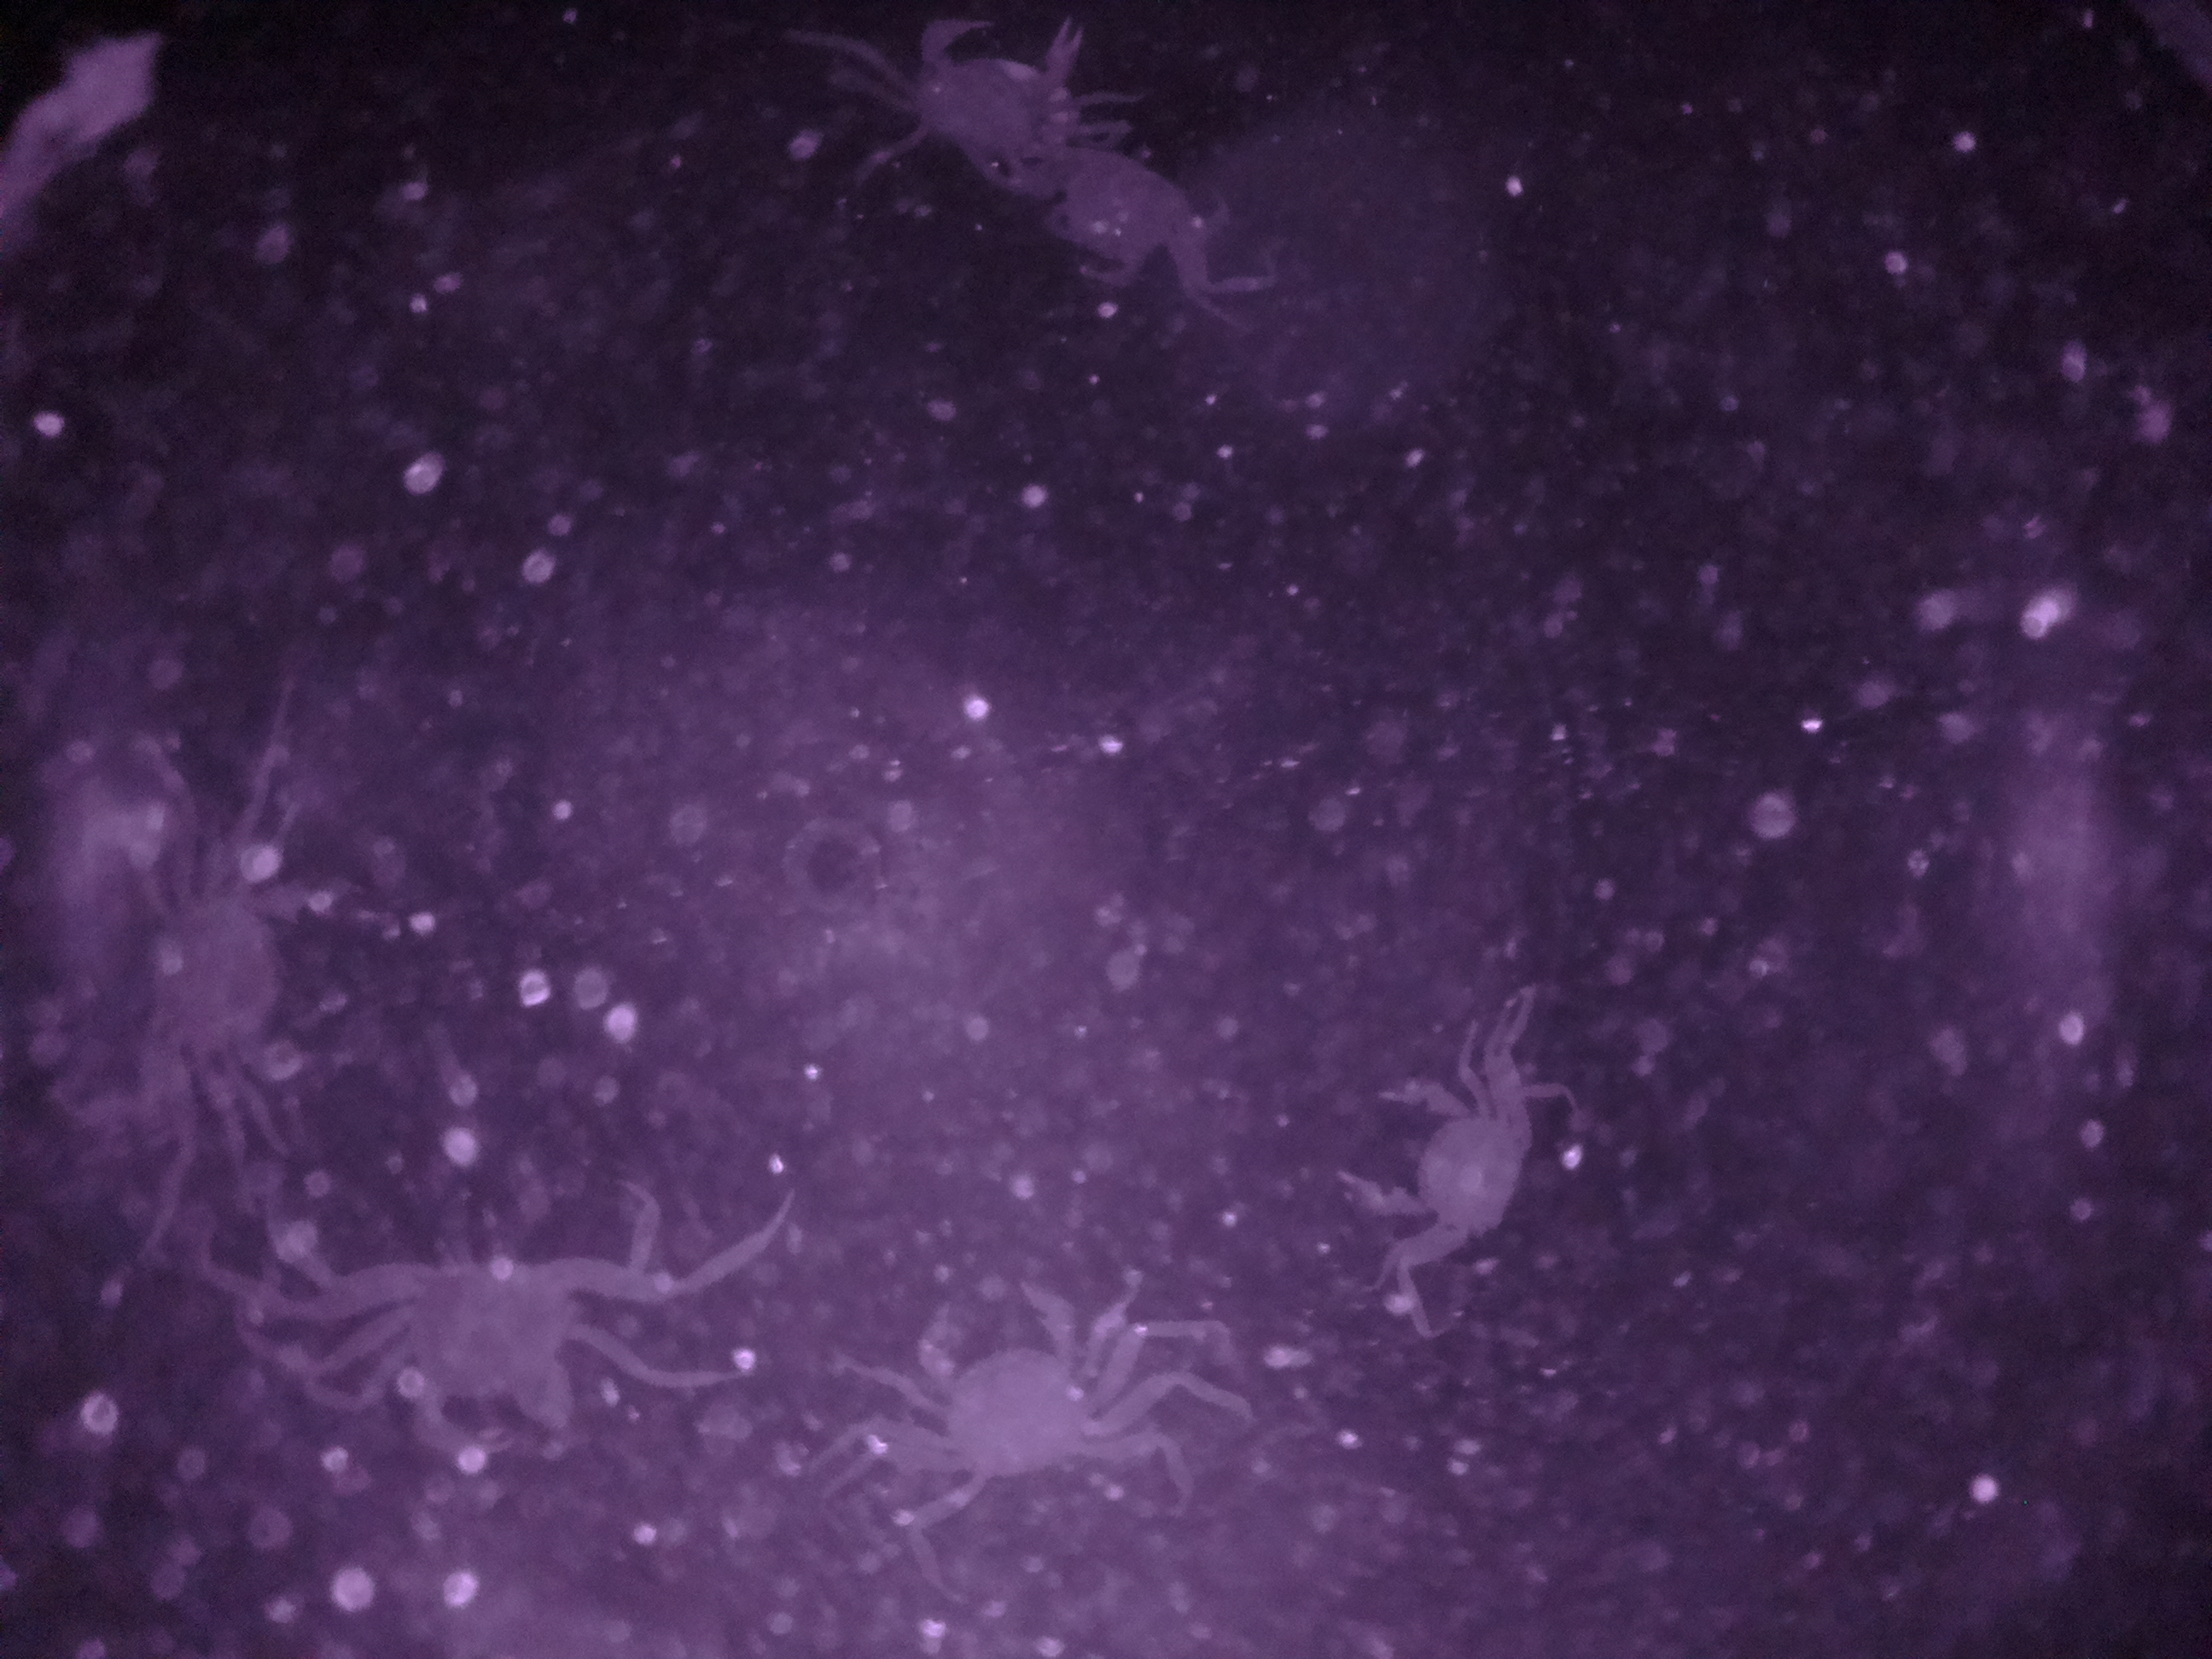Crab: (293, 1220, 667, 1485), (853, 1274, 1148, 1528), (1312, 1068, 1569, 1270)
